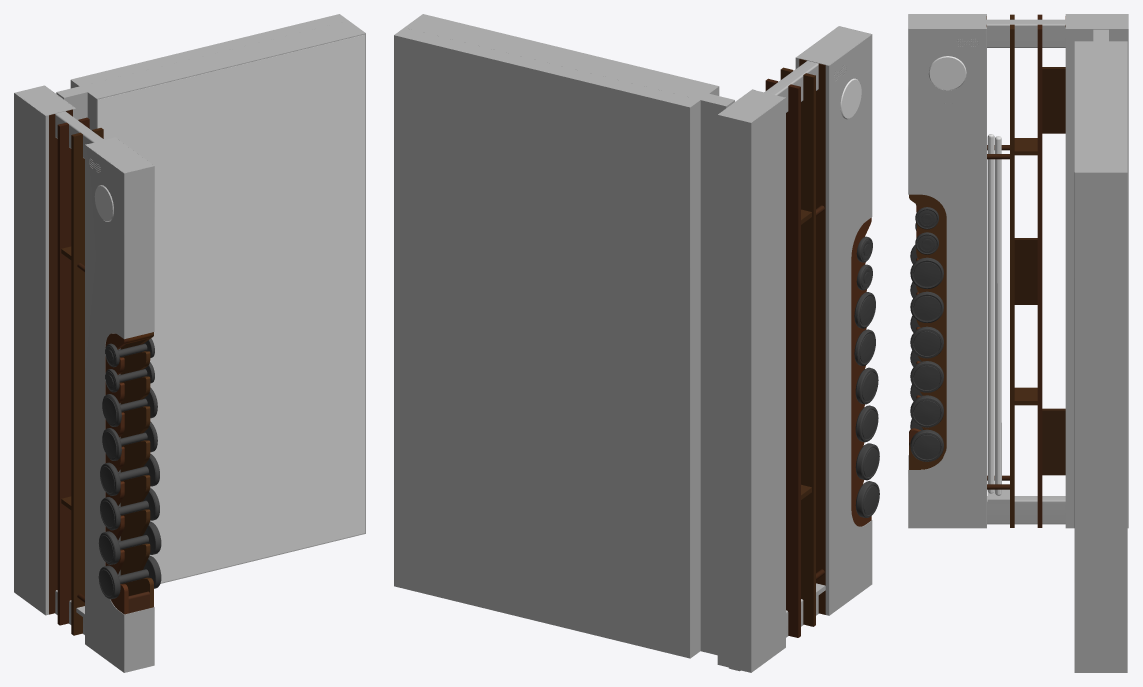
File: mirror_lr.glb
3 views of the same model, side by side, from view 1: azimuth 30°, elevation 25°; view 2: azimuth 150°, elevation 25°; view 3: azimuth 270°, elevation 25° (orthographic). The views are drawn at different scales.
Visible parts, largest first — view 1: mirror_lr; view 2: mirror_lr; view 3: mirror_lr.
Part boxes in pixels (x1,y1,x2,y2): mirror_lr: (14,14,365,672); mirror_lr: (394,14,879,672); mirror_lr: (908,14,1128,672).
Size of the model in its own units: 1.46 by 2.09 by 0.8344.
